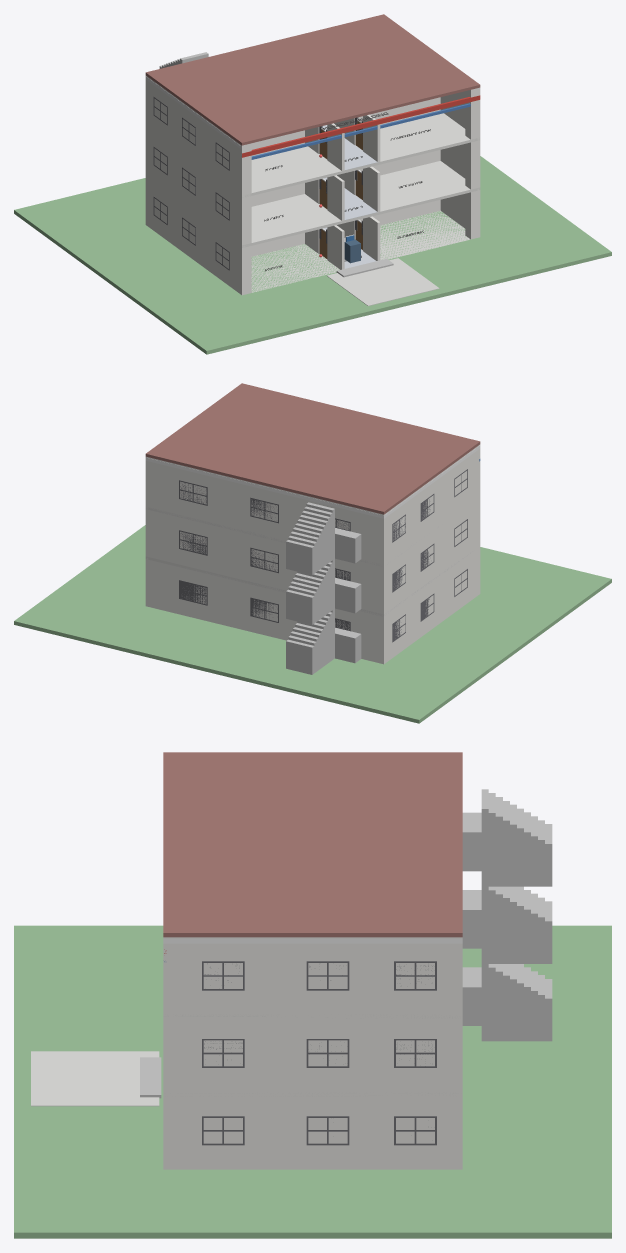
The model's file is RENNN.glb.
3 views of the same model, one above another, from view 1: azimuth 30°, elevation 25°; view 2: azimuth 150°, elevation 25°; view 3: azimuth 270°, elevation 25° (orthographic). The views are drawn at different scales.
Parts seen in each view (by area): view 1: Ground, Roof, OuterLeftWall, Slab_2, Slab_3, Slab_1, FrontWalk, OuterRightWall, FrontColumnRight, FrontRedTrimTop, FrontColumnLeft, FrontBlueTrimMid (+15 smaller); view 2: Ground, OuterBackWall, Roof, OuterLeftWall, BackTrim, Stair_1_B_0, Stair_3_B_0, Stair_2_B_0, FrontColumnLeft, Stair_3_Landing, Stair_1_Landing, Stair_2_Landing (+2 smaller); view 3: Ground, OuterRightWall, Roof, FrontWalk, RightTrim, FrontColumnRight, Stair_3_Landing, Stair_1_Landing, Stair_2_Landing, EntranceStep, Stair_3_B_9, Stair_3_B_8 (+1 smaller).
Boxes of the visible parts, <box> form: Ground: <box>14,156,611,354</box>; Roof: <box>145,14,480,145</box>; OuterLeftWall: <box>145,75,244,295</box>; Slab_2: <box>242,161,480,247</box>; Slab_3: <box>242,113,479,197</box>; Slab_1: <box>251,210,470,292</box>; FrontWalk: <box>327,258,439,305</box>; OuterRightWall: <box>440,87,480,237</box>; FrontColumnRight: <box>465,88,480,239</box>; FrontRedTrimTop: <box>242,95,480,157</box>; FrontColumnLeft: <box>236,143,251,294</box>; FrontBlueTrimMid: <box>251,103,470,159</box>; Ground: <box>14,525,611,723</box>; OuterBackWall: <box>145,457,383,663</box>; Roof: <box>145,383,480,514</box>; OuterLeftWall: <box>381,444,480,664</box>; BackTrim: <box>145,457,383,518</box>; Stair_1_B_0: <box>286,639,314,674</box>; Stair_3_B_0: <box>286,540,314,574</box>; Stair_2_B_0: <box>286,589,314,624</box>; FrontColumnLeft: <box>475,445,480,597</box>; Stair_3_Landing: <box>335,527,361,563</box>; Stair_1_Landing: <box>335,627,361,663</box>; Stair_2_Landing: <box>335,577,361,613</box>; Ground: <box>14,925,611,1238</box>; OuterRightWall: <box>163,937,462,1169</box>; Roof: <box>163,752,462,937</box>; FrontWalk: <box>31,1051,159,1106</box>; RightTrim: <box>163,938,462,943</box>; FrontColumnRight: <box>163,937,180,1169</box>; Stair_3_Landing: <box>462,812,481,871</box>; Stair_1_Landing: <box>462,967,481,1025</box>; Stair_2_Landing: <box>462,890,481,948</box>; EntranceStep: <box>140,1057,161,1098</box>; Stair_3_B_9: <box>481,789,488,886</box>; Stair_3_B_8: <box>488,793,495,886</box>.
Bounding box in the file's own units: 34 × 12.52 × 28.
